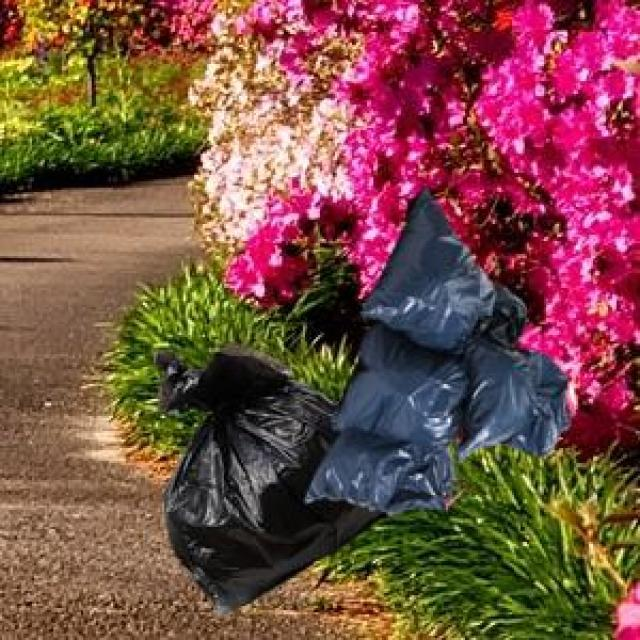Trashbag: (364, 191, 497, 349), (448, 326, 577, 464), (330, 330, 469, 444), (311, 434, 454, 524)
